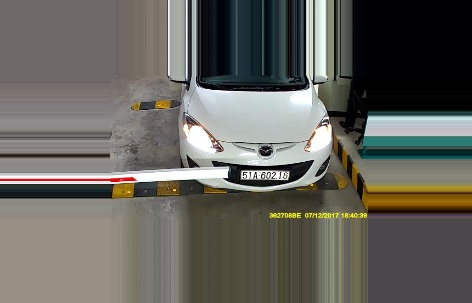plate: (240, 168, 290, 182)
